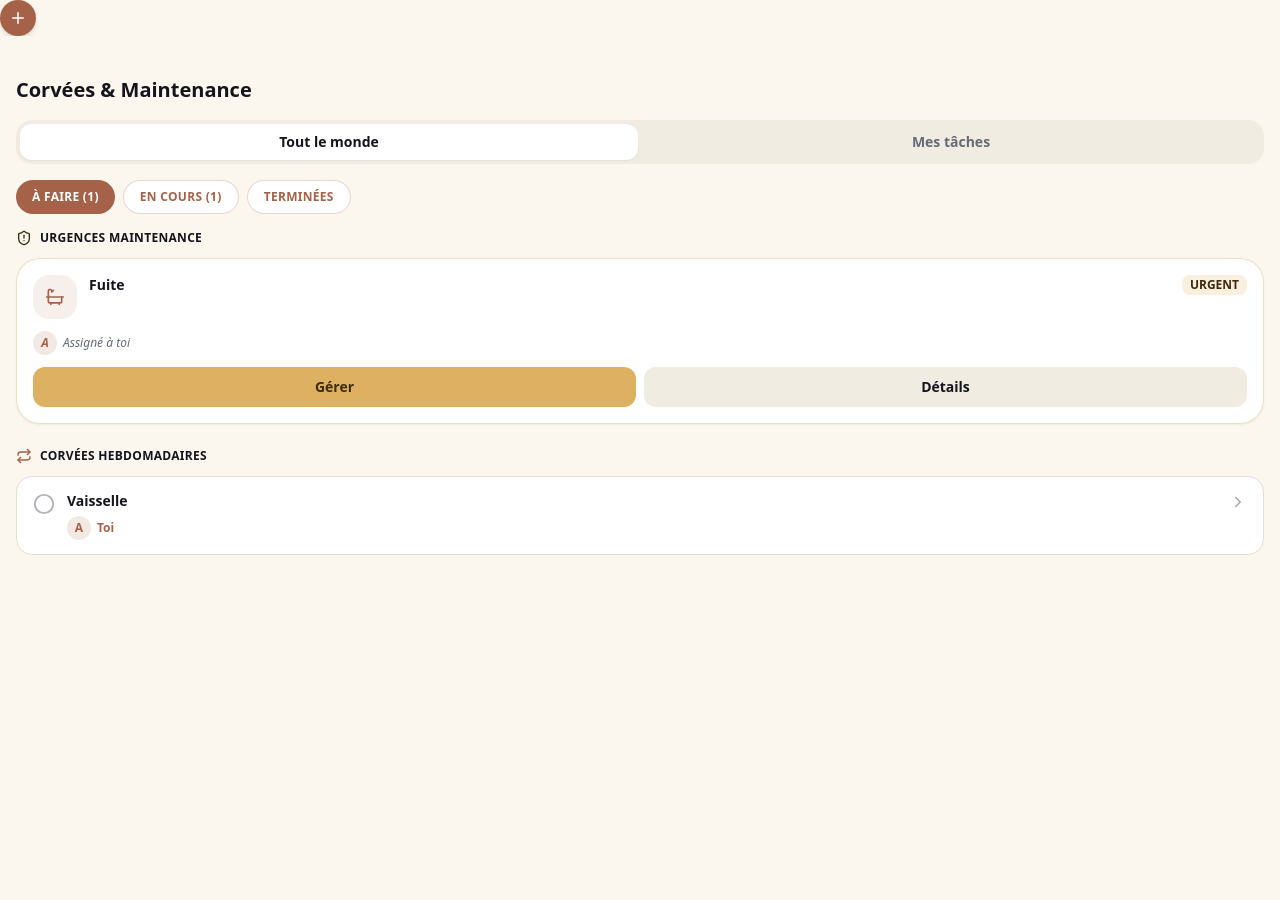
Scenario: audit RGAA — échantillon de pages › Chores — modale de création (corvée / ticket) produit un rapport axe
The image size is (1280, 900).
expect the heading "Corvées & Maintenance" is shown: met, box [16,76,252,103]
Click the button named "ajouter une corvée ou un ticket": click(18, 18) [0,0,36,36]
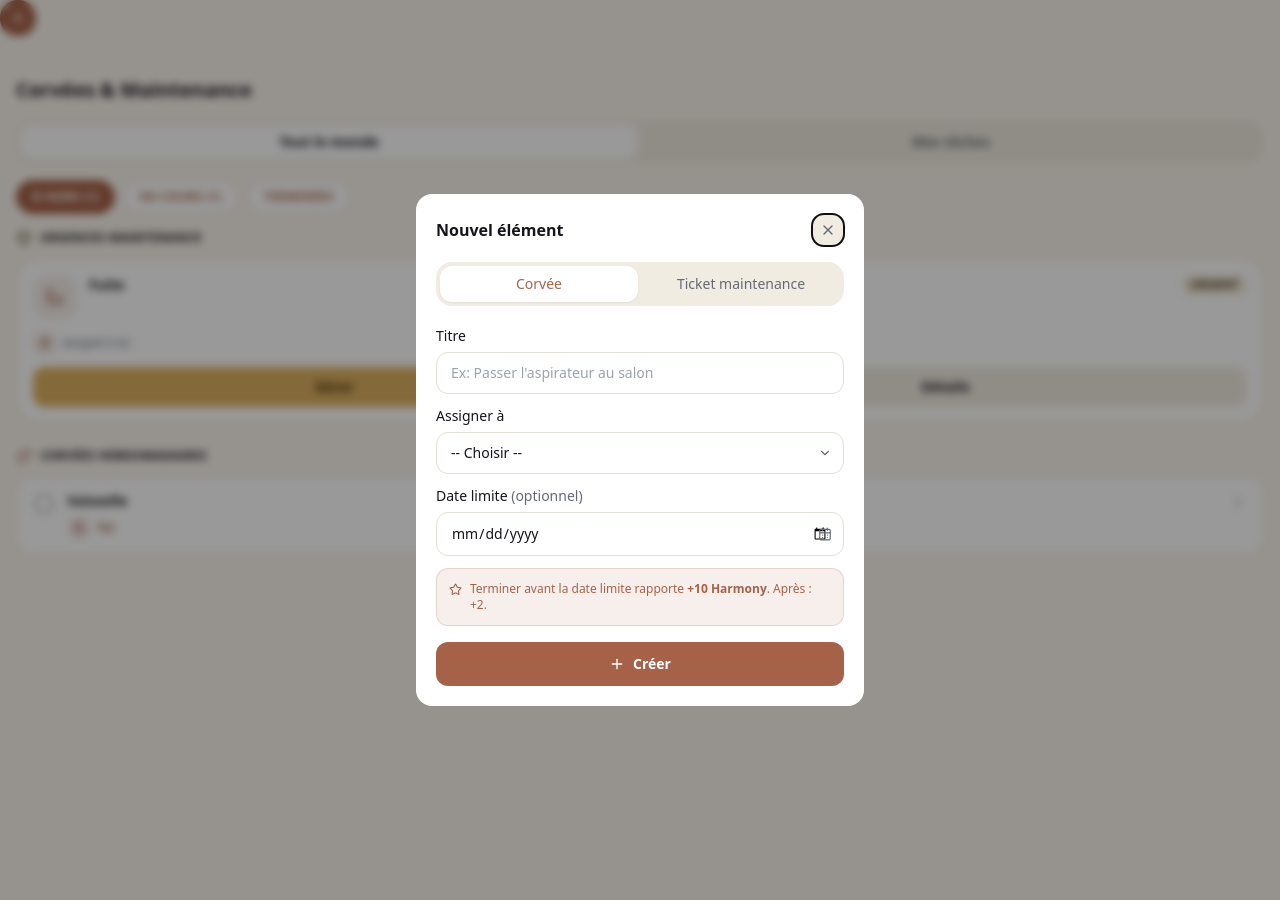
expect the heading "Nouvel élément" is shown: met, box [436,218,564,242]
